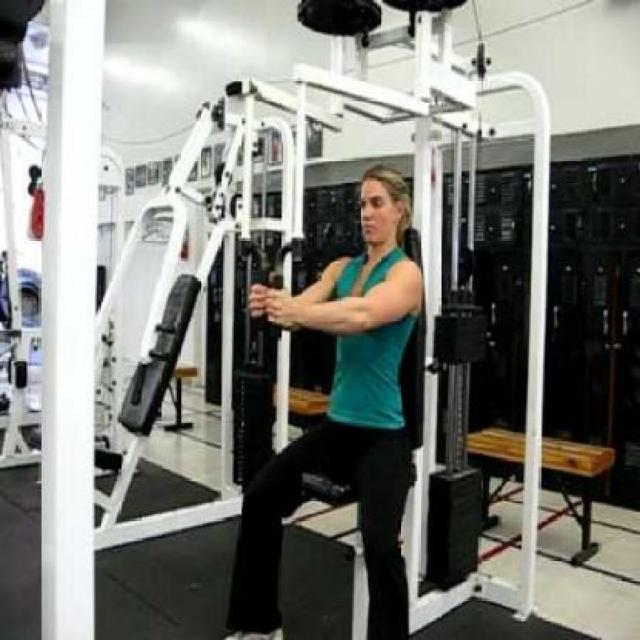chest fly machine: (191, 0, 557, 640)
